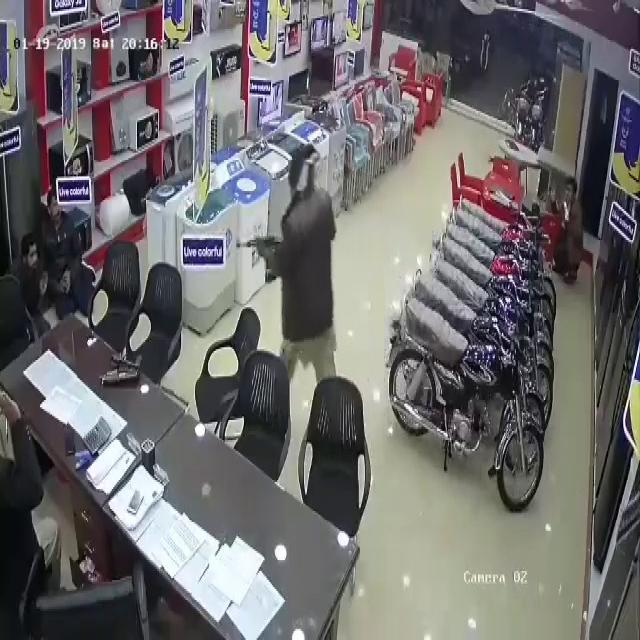weapon: (233, 228, 279, 276)
